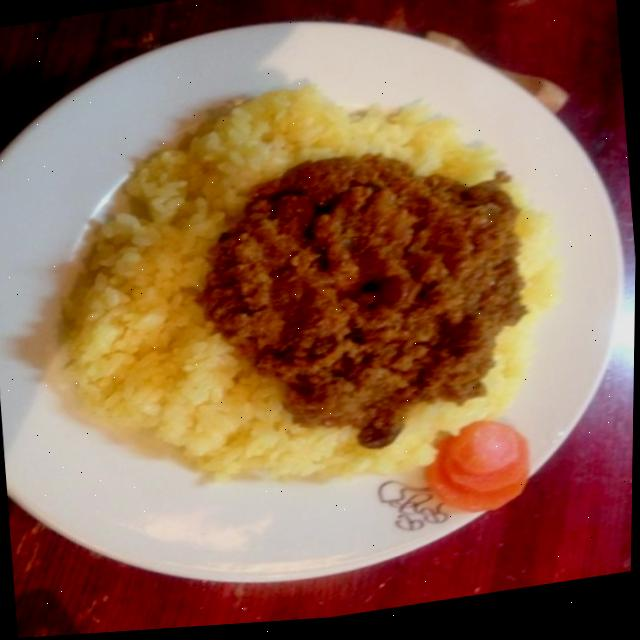面条主食: (0, 19, 639, 615)
